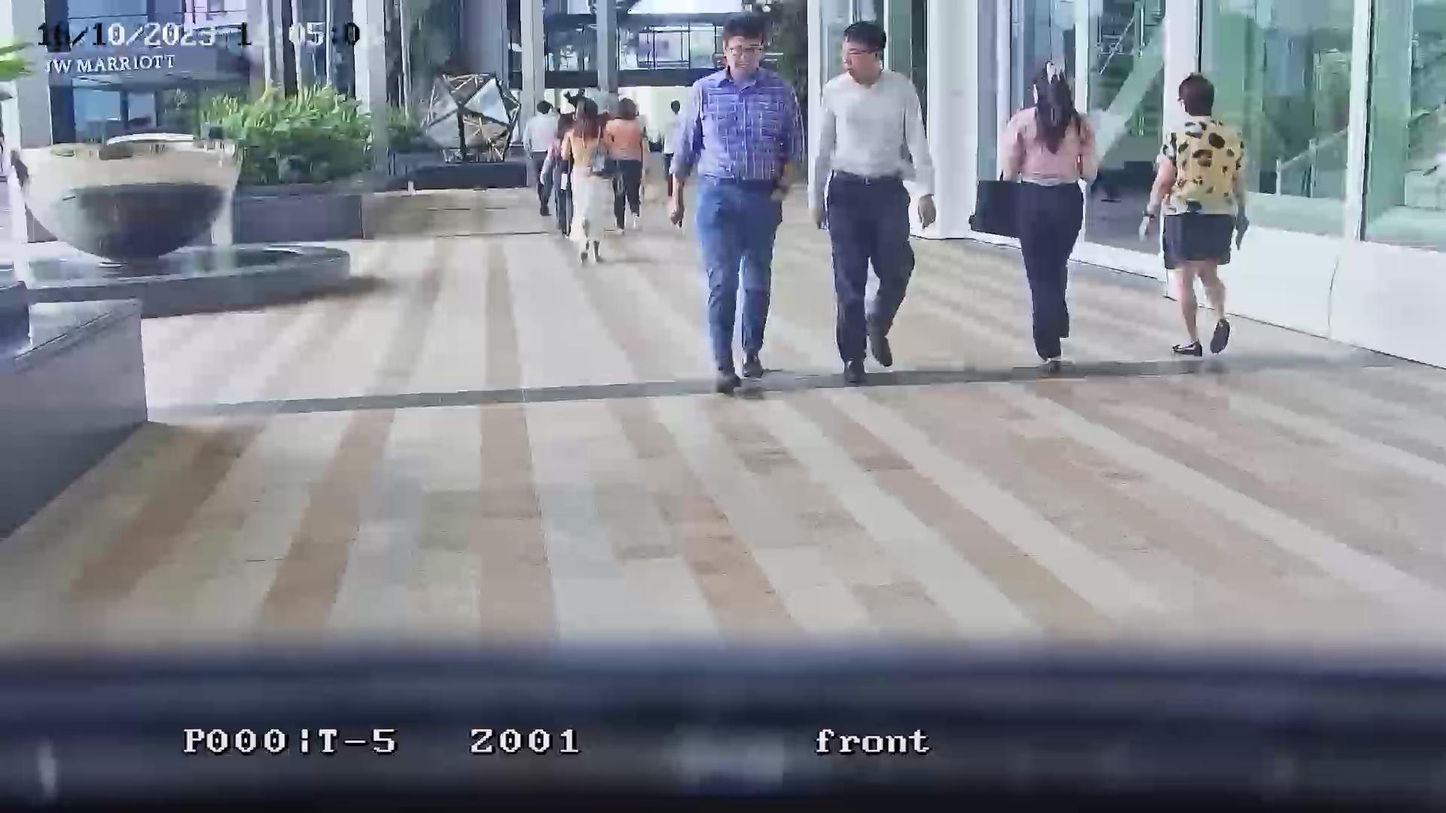person: (667, 10, 801, 397), (807, 21, 937, 385), (996, 62, 1099, 375), (1139, 73, 1250, 358), (558, 99, 618, 266), (600, 98, 648, 232), (548, 99, 579, 240), (525, 99, 560, 212), (663, 100, 688, 208)
